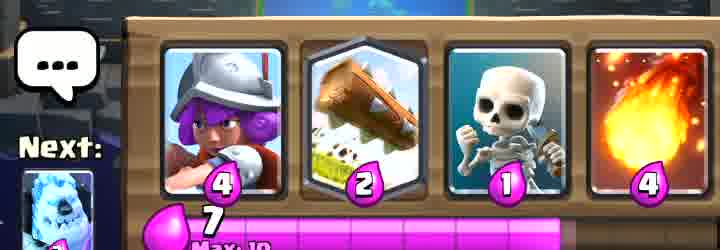fireball: (595, 46, 710, 193)
ice-golem: (25, 171, 93, 249)
log: (311, 43, 423, 188)
musketeer: (165, 47, 282, 203)
skeleton: (448, 58, 558, 201)
